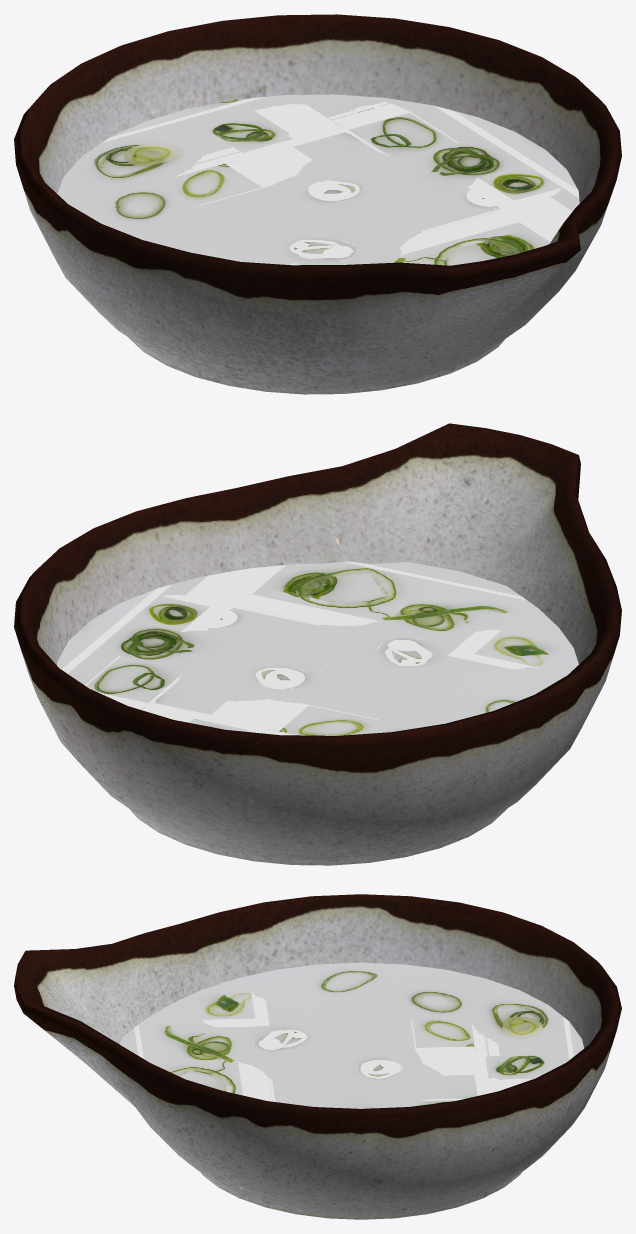
The model's file is sara07A.fbx.
3 renders of one model, top to bottom at view 1: azimuth 30°, elevation 25°; view 2: azimuth 150°, elevation 25°; view 3: azimuth 270°, elevation 25°, orthographic. The views are drawn at different scales.
Visible parts, largest first — view 1: sara07A; view 2: sara07A; view 3: sara07A.
Part boxes in pixels (x1,y1,x2,y2): sara07A: (14, 14, 621, 394); sara07A: (14, 423, 621, 865); sara07A: (14, 894, 621, 1219).
Bounding box in the file's own units: 9.87 × 3.63 × 11.51.
